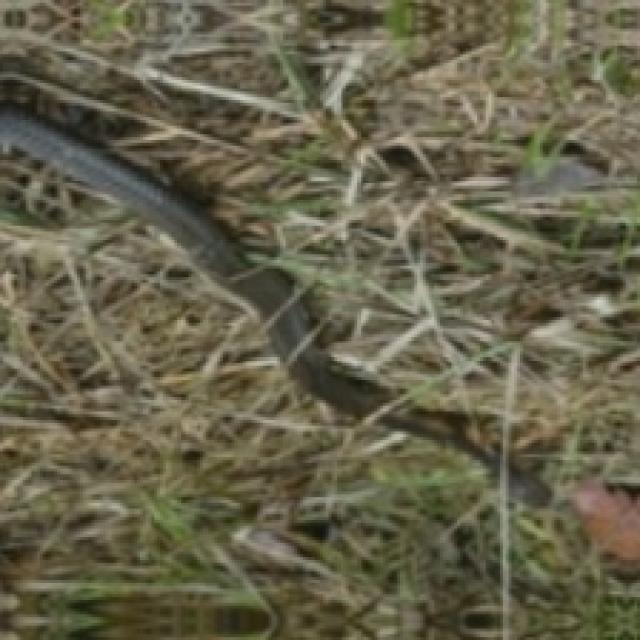king cobra: (0, 0, 549, 509)
